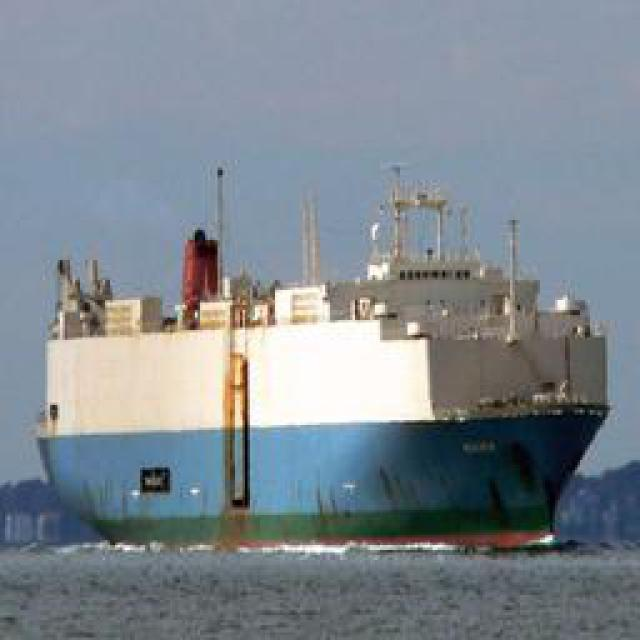Ship: (35, 174, 618, 549)
